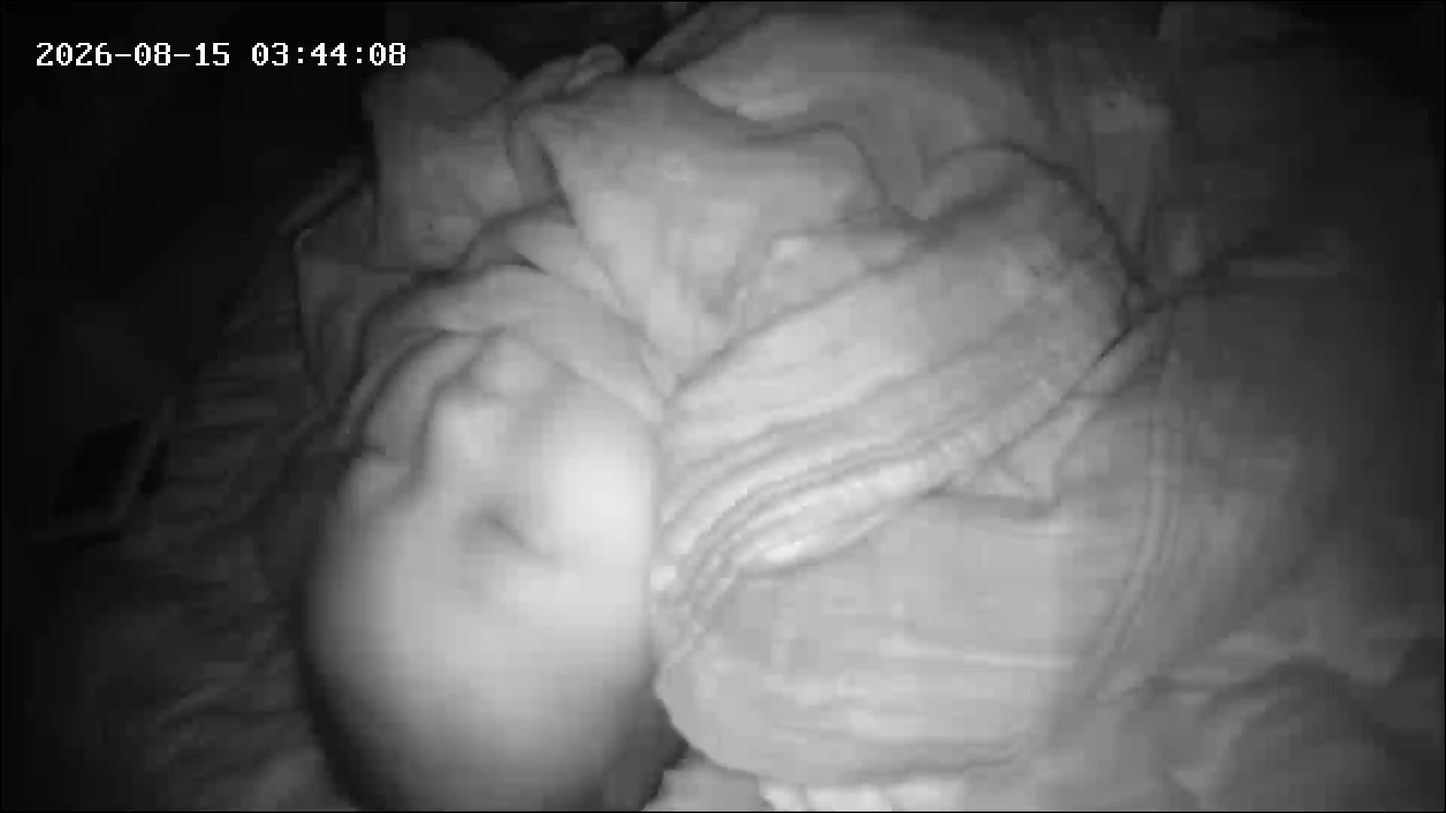baby: (227, 1, 1232, 811), (268, 4, 897, 810)
baby_face: (262, 329, 693, 812)
